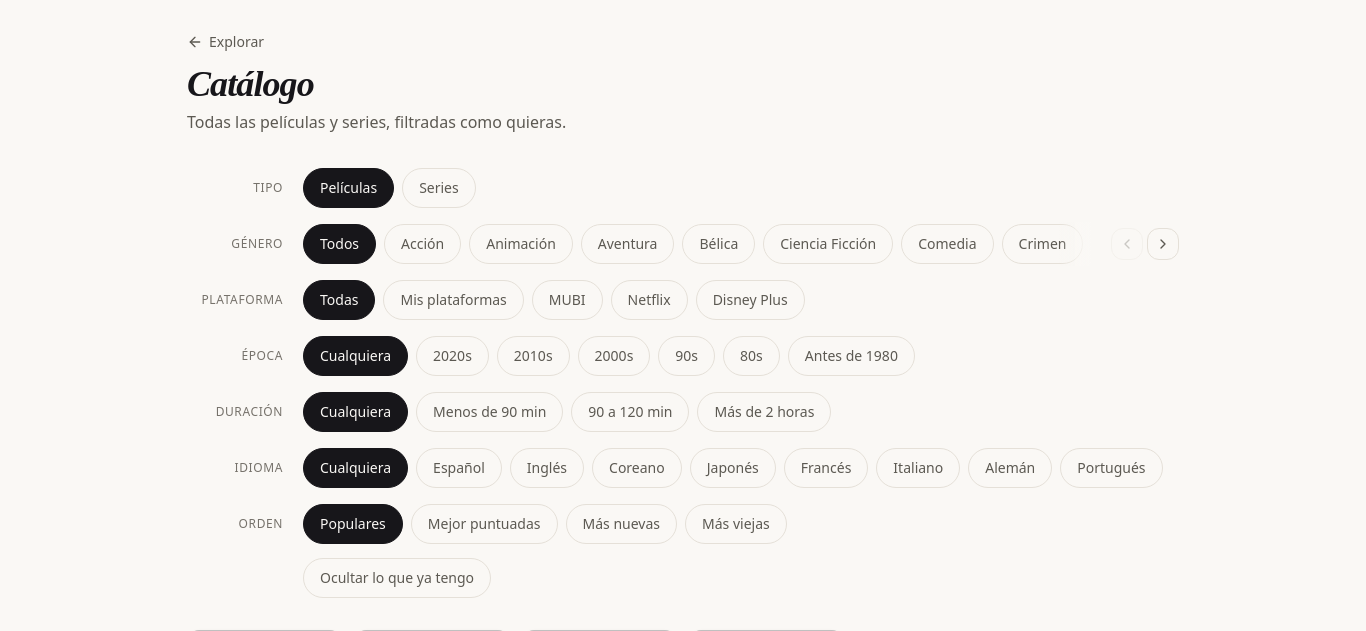
Test case: CatalogView › "Mis plataformas" elige las que pagás, con el crédito de JustWatch
Click the button "Mis plataformas" at (454, 300), box [384,280,524,320]
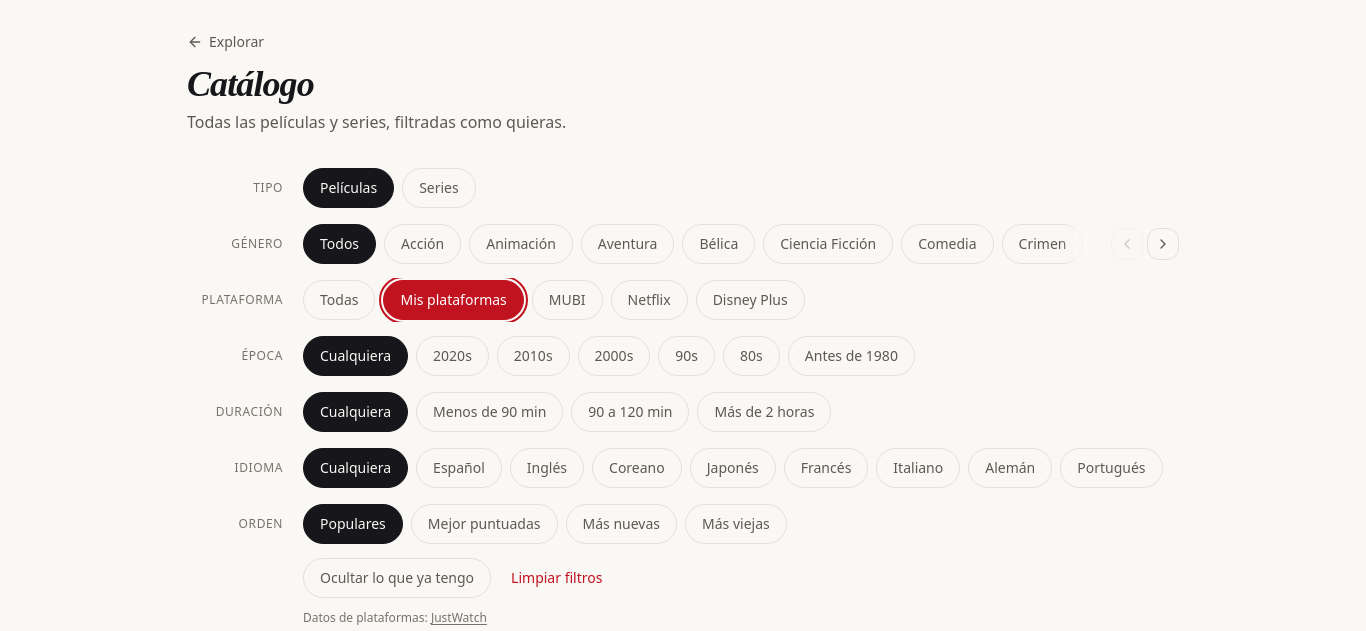
Now the link "JustWatch" is shown, box [431,609,487,626]
